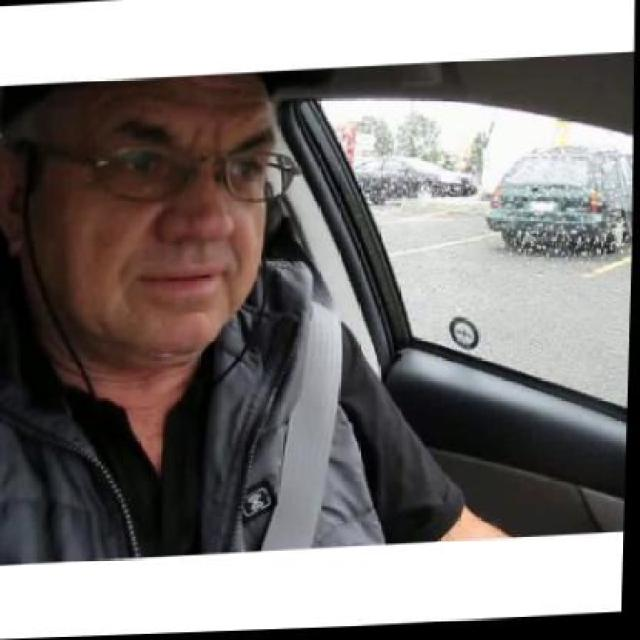attentif: (0, 74, 282, 361)
